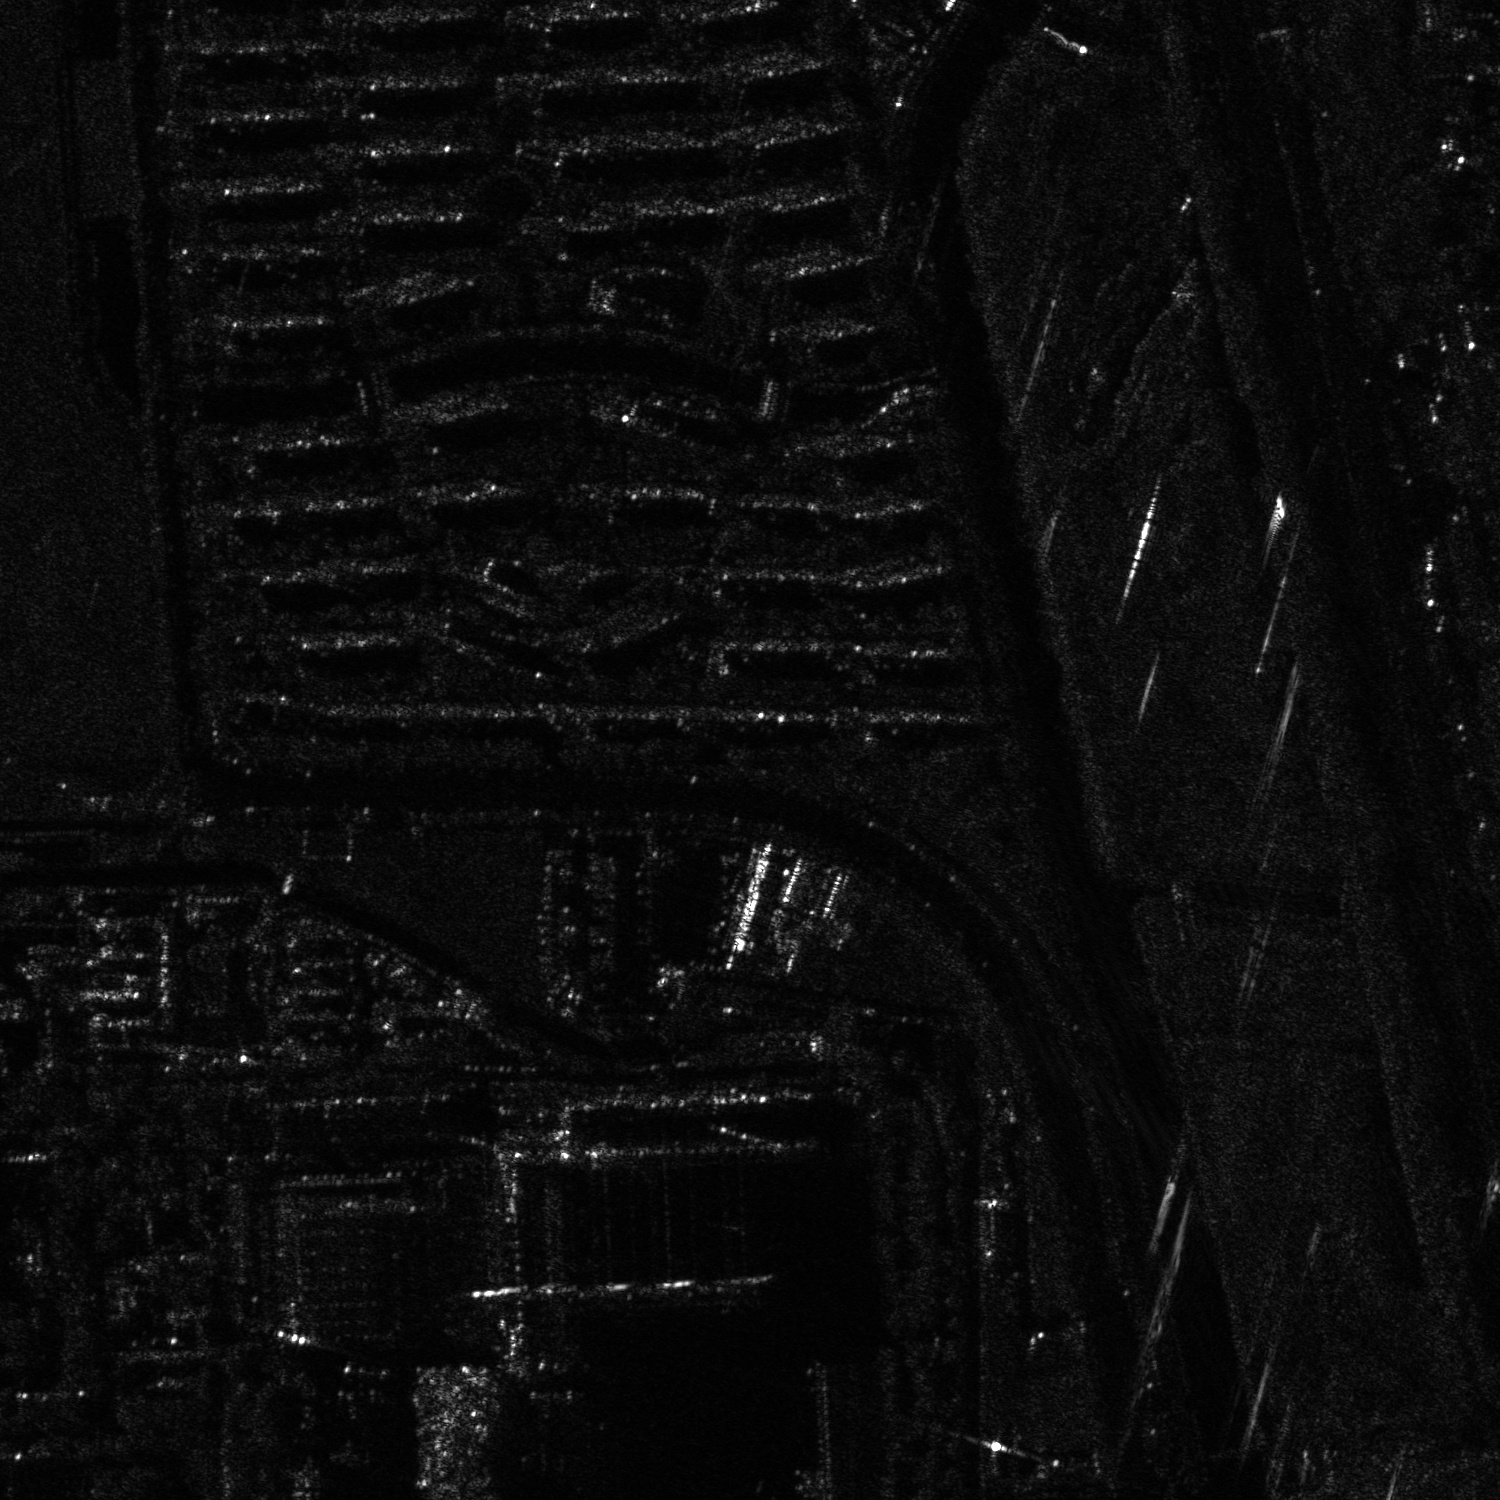Boeing737: (488, 1356, 607, 1474), (295, 1363, 409, 1468)
